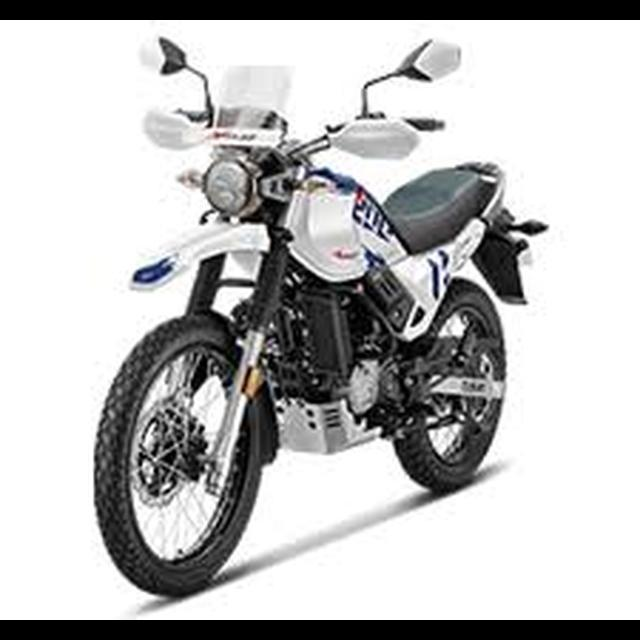motorcycle: (87, 31, 551, 606)
